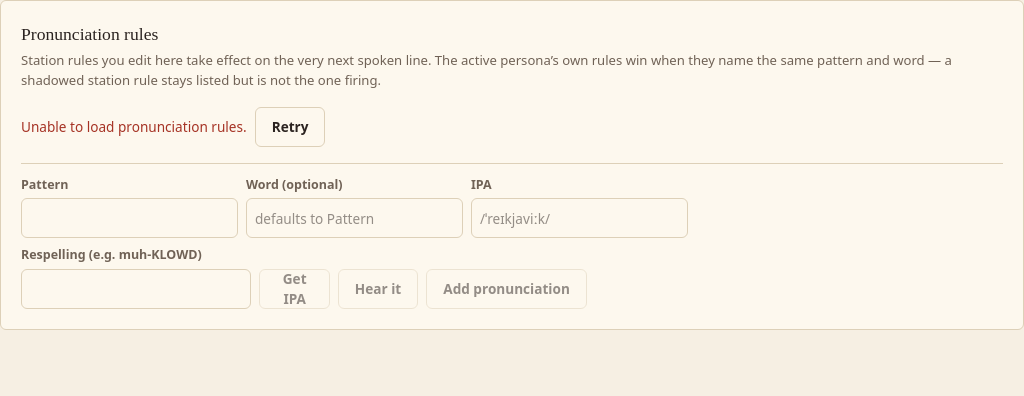
Feature: pronunciation rules render as rows (STORY-254) › Scenario: the list fails to load › offers a Retry that re-fetches
The image size is (1024, 396).
Check: the text "Unable to load pronunciation rules." is shown, box [21,117,247,137]
Click the button "Retry": (290, 127) [255,107,326,147]
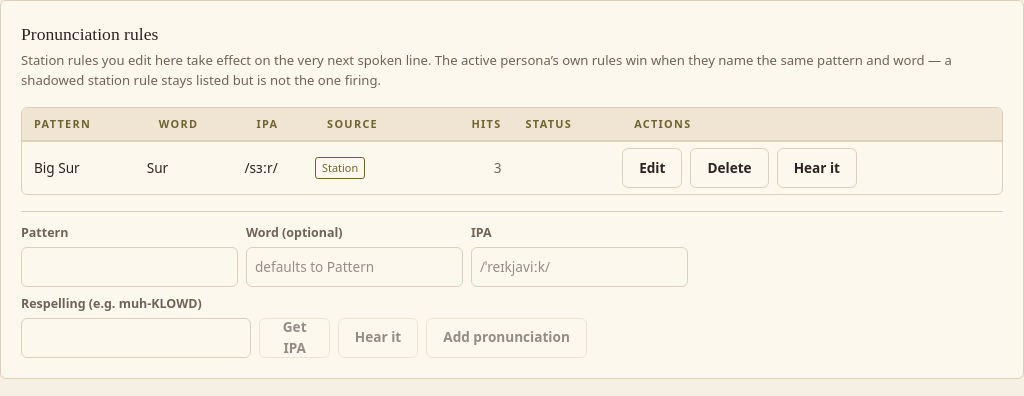
Check: the text "Big Sur" is shown, box [22,141,147,194]
